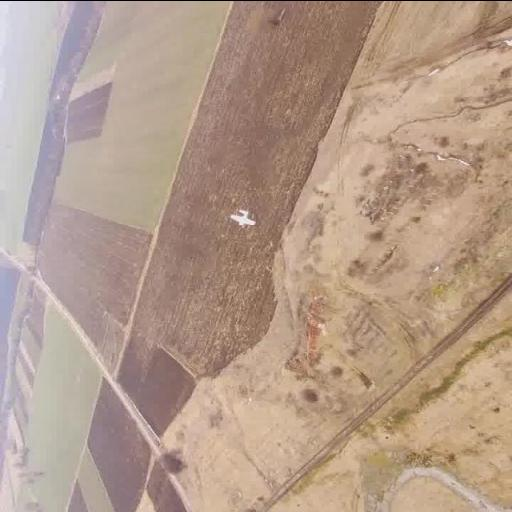uav: (220, 208, 270, 234)
